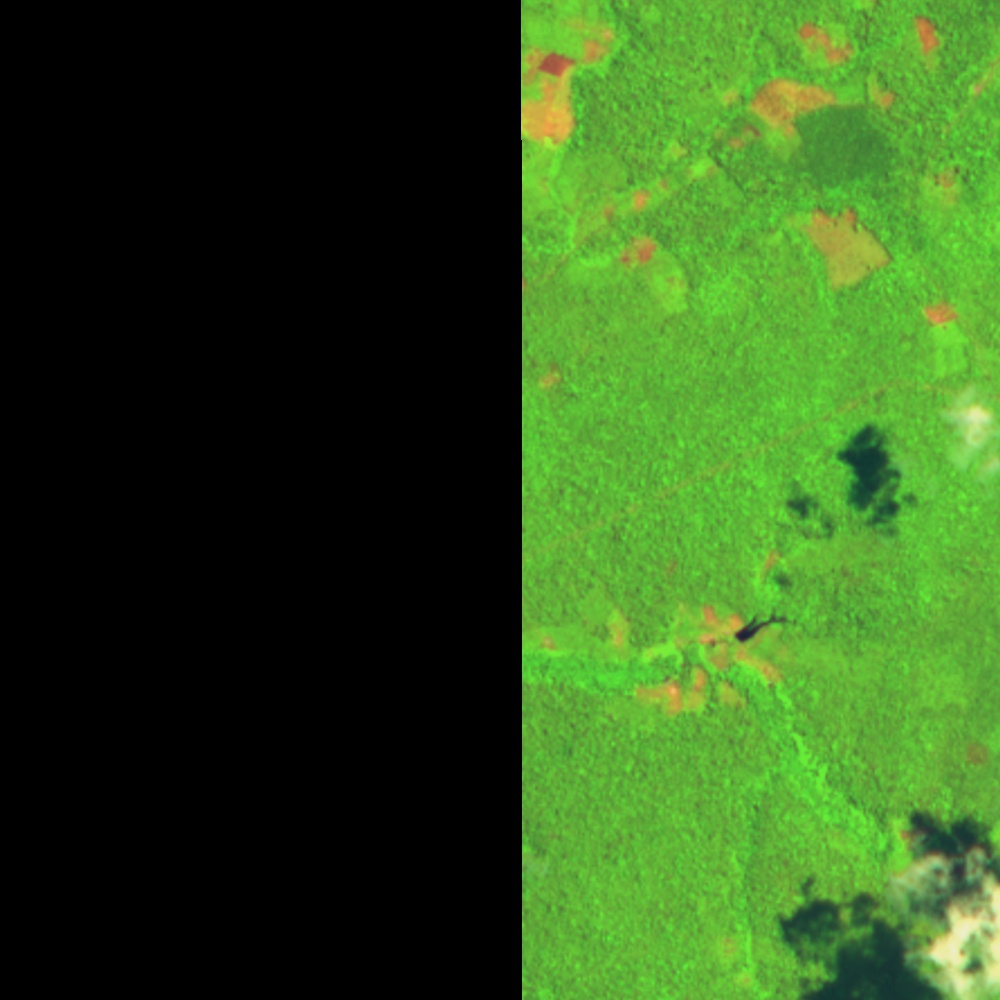legal: (522, 548, 794, 717), (714, 66, 904, 164), (522, 17, 624, 151), (799, 199, 898, 294), (584, 179, 673, 266), (921, 296, 977, 390), (796, 14, 859, 73), (912, 10, 948, 60), (965, 53, 1000, 101), (889, 823, 939, 851), (935, 156, 966, 199), (966, 737, 999, 770)
